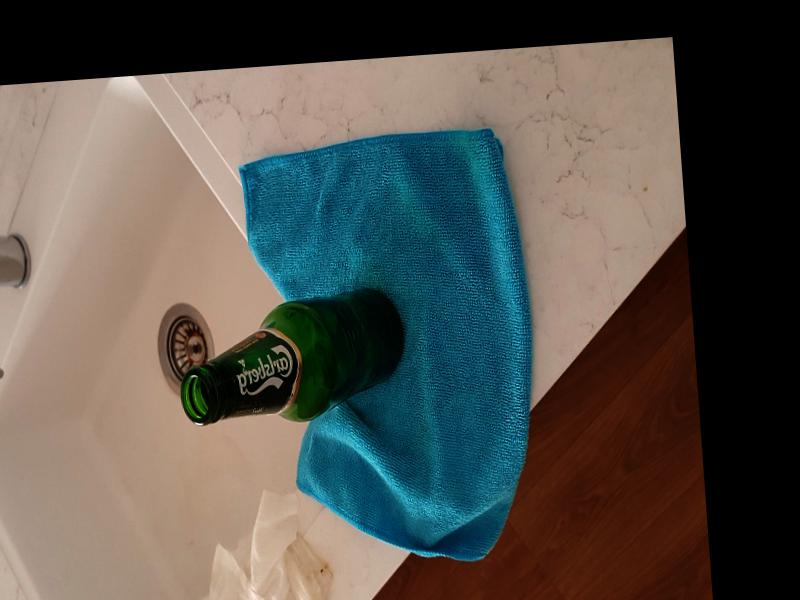Beer: (177, 289, 412, 431)
